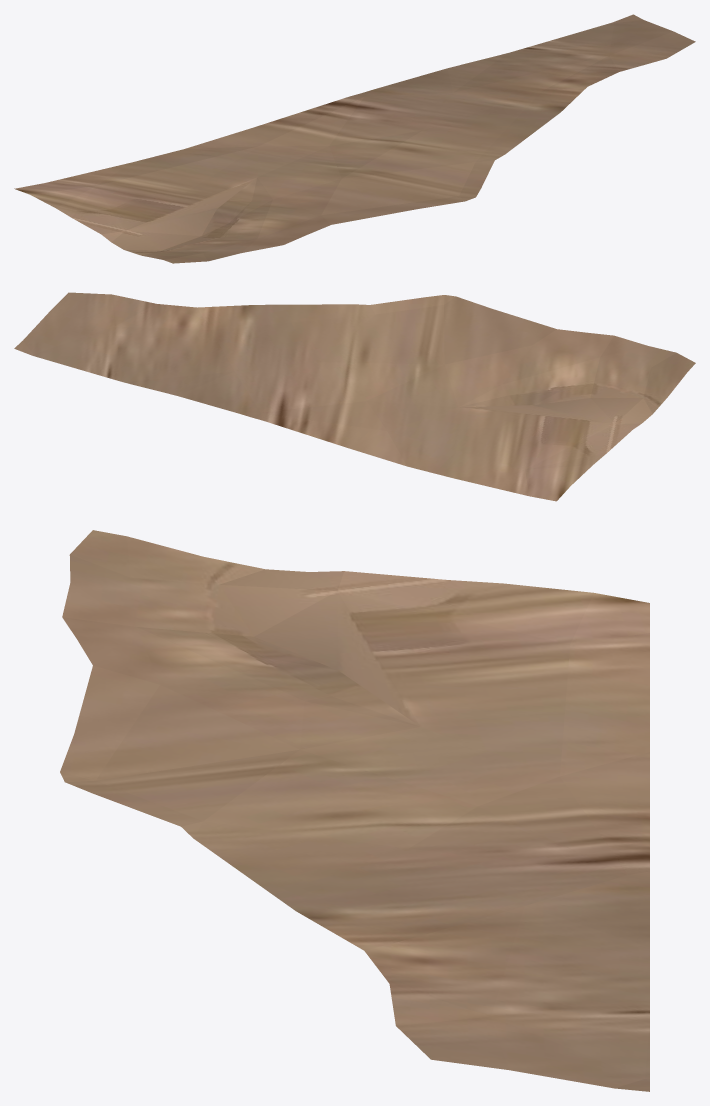
3 views of the same model, one above another, from view 1: azimuth 30°, elevation 25°; view 2: azimuth 150°, elevation 25°; view 3: azimuth 270°, elevation 25° (orthographic). The views are drawn at different scales.
Bounding box in the file's own units: 1.04 × 0.0709 × 0.4919.
1 material, 1 textured.
